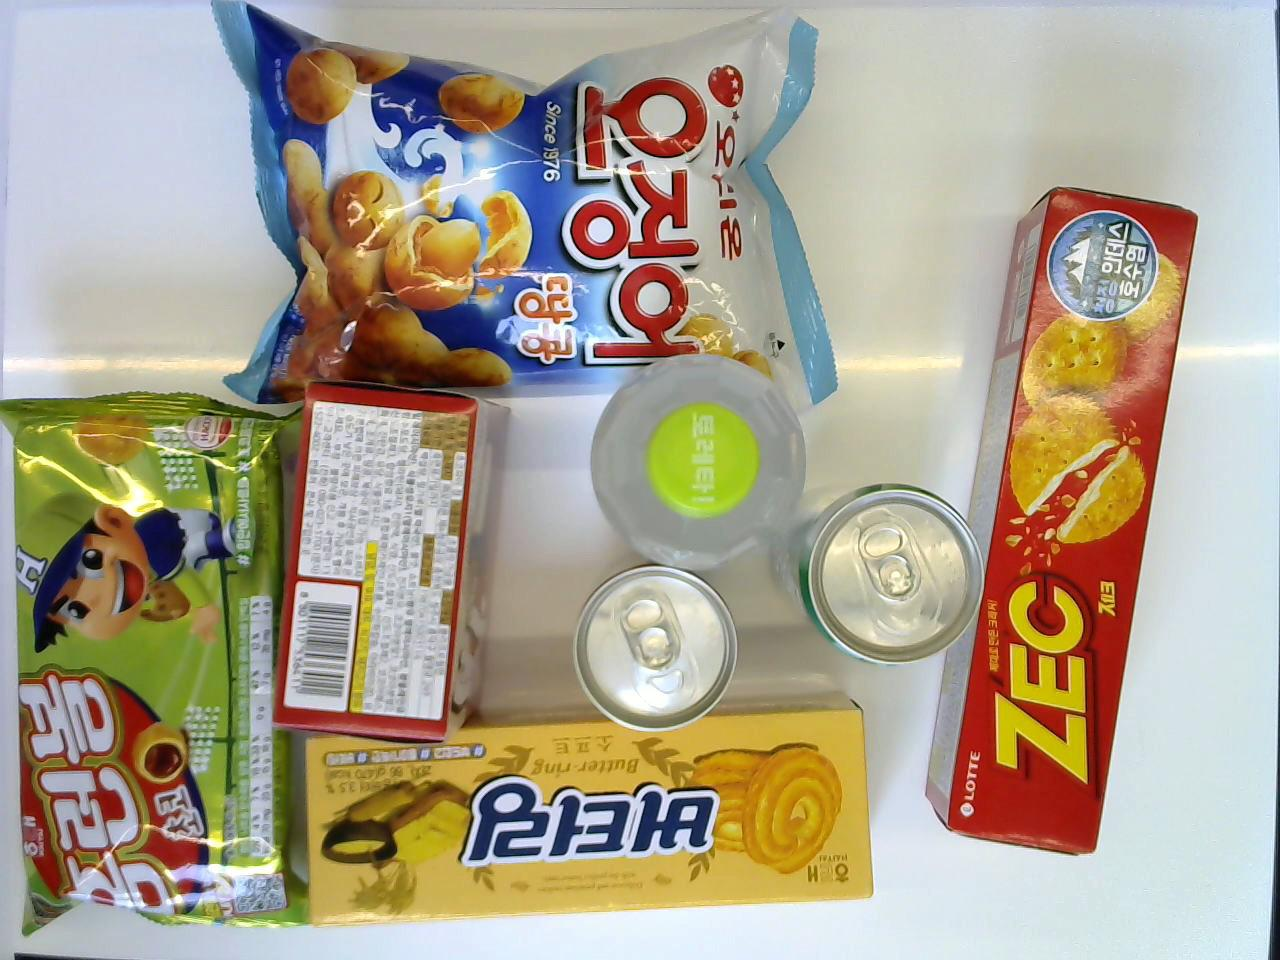buttering: (289, 682, 878, 926)
chocopie: (262, 377, 511, 747)
cidar: (767, 478, 983, 665)
coke: (567, 561, 739, 734)
homerunball: (2, 396, 315, 940)
squid_peanut: (205, 0, 839, 406)
toreta: (586, 355, 807, 578)
zec: (925, 189, 1196, 860)
